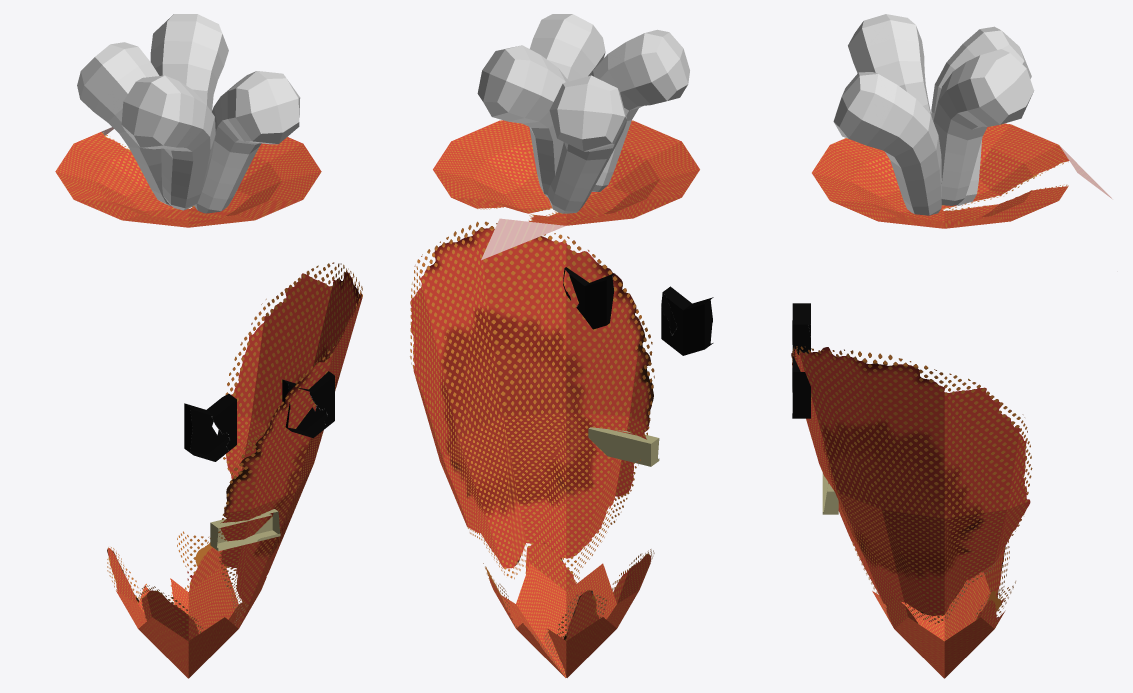
The model's file is Zanahoria.fbx.
The picture shows the model from 3 angles, left to right: view 1: azimuth 30°, elevation 25°; view 2: azimuth 150°, elevation 25°; view 3: azimuth 270°, elevation 25°; orthographic projection.
Visible parts, largest first — view 1: Zanahoria; view 2: Zanahoria; view 3: Zanahoria.
Part boxes in pixels (<box>): Zanahoria: <box>55,14,362,678</box>; Zanahoria: <box>410,14,713,677</box>; Zanahoria: <box>791,14,1112,678</box>.
Size of the model in its own units: 131 by 266 by 132.
Materials: 4 (4 with a texture image).
